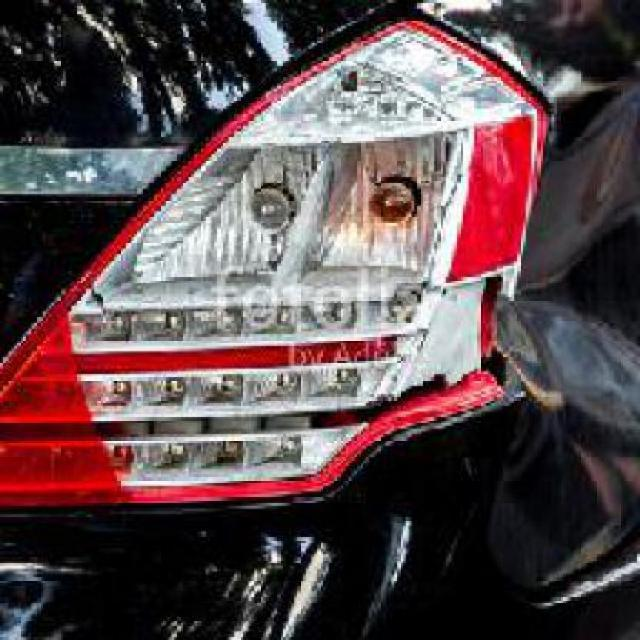damaged-tail-light: (0, 15, 555, 513)
